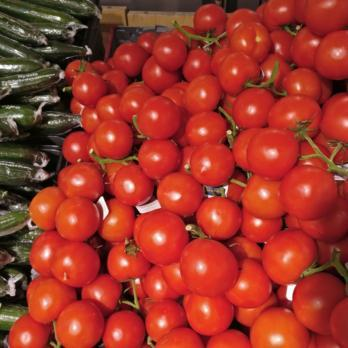Tomato: (62, 61, 348, 348), (190, 1, 348, 62), (24, 185, 72, 348), (115, 29, 194, 61)
